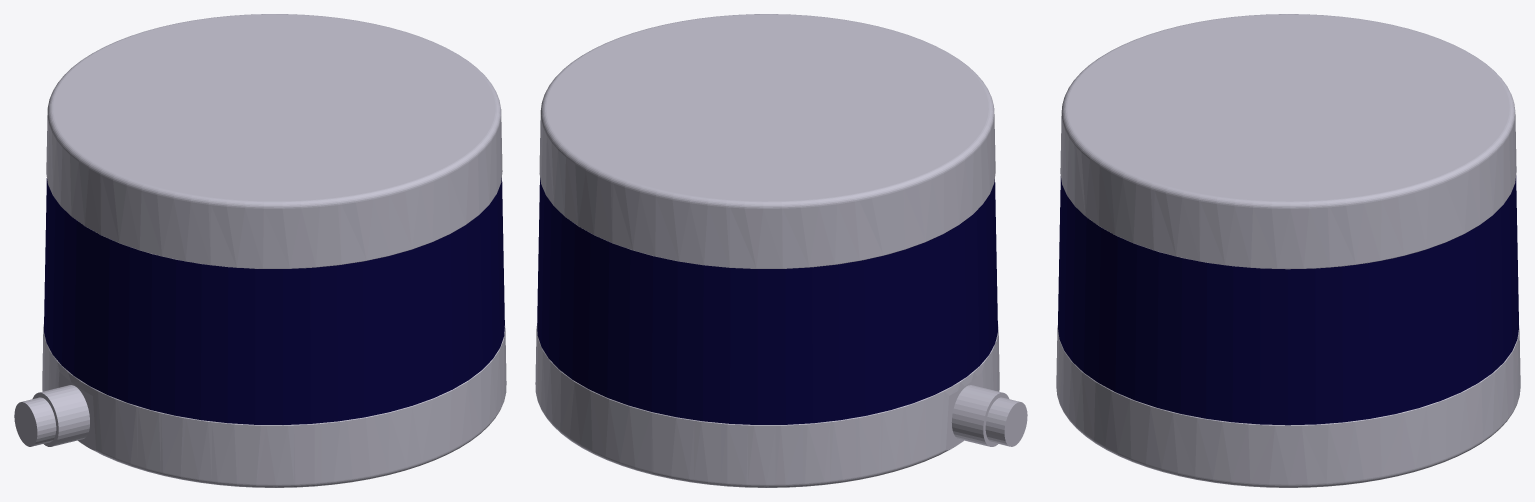
File: vlp16.dae
3 views of the same model, side by side, from view 1: azimuth 30°, elevation 25°; view 2: azimuth 150°, elevation 25°; view 3: azimuth 270°, elevation 25° (orthographic).
Parts seen in each view (by area): view 1: VLP16 base 2, VLP16 scan, VLP16 base 1; view 2: VLP16 base 2, VLP16 scan, VLP16 base 1; view 3: VLP16 base 2, VLP16 scan, VLP16 base 1.
Part boxes in pixels (box(x1,y1,x2,y2)): VLP16 base 2: box(46, 14, 502, 268); VLP16 scan: box(44, 178, 504, 424); VLP16 base 1: box(14, 253, 506, 487); VLP16 base 2: box(539, 14, 995, 268); VLP16 scan: box(537, 178, 997, 424); VLP16 base 1: box(535, 253, 1027, 487); VLP16 base 2: box(1060, 14, 1516, 268); VLP16 scan: box(1058, 175, 1518, 425); VLP16 base 1: box(1056, 251, 1520, 487).
Size of the model in its own units: 0.1158 by 0.1036 by 0.0698.
